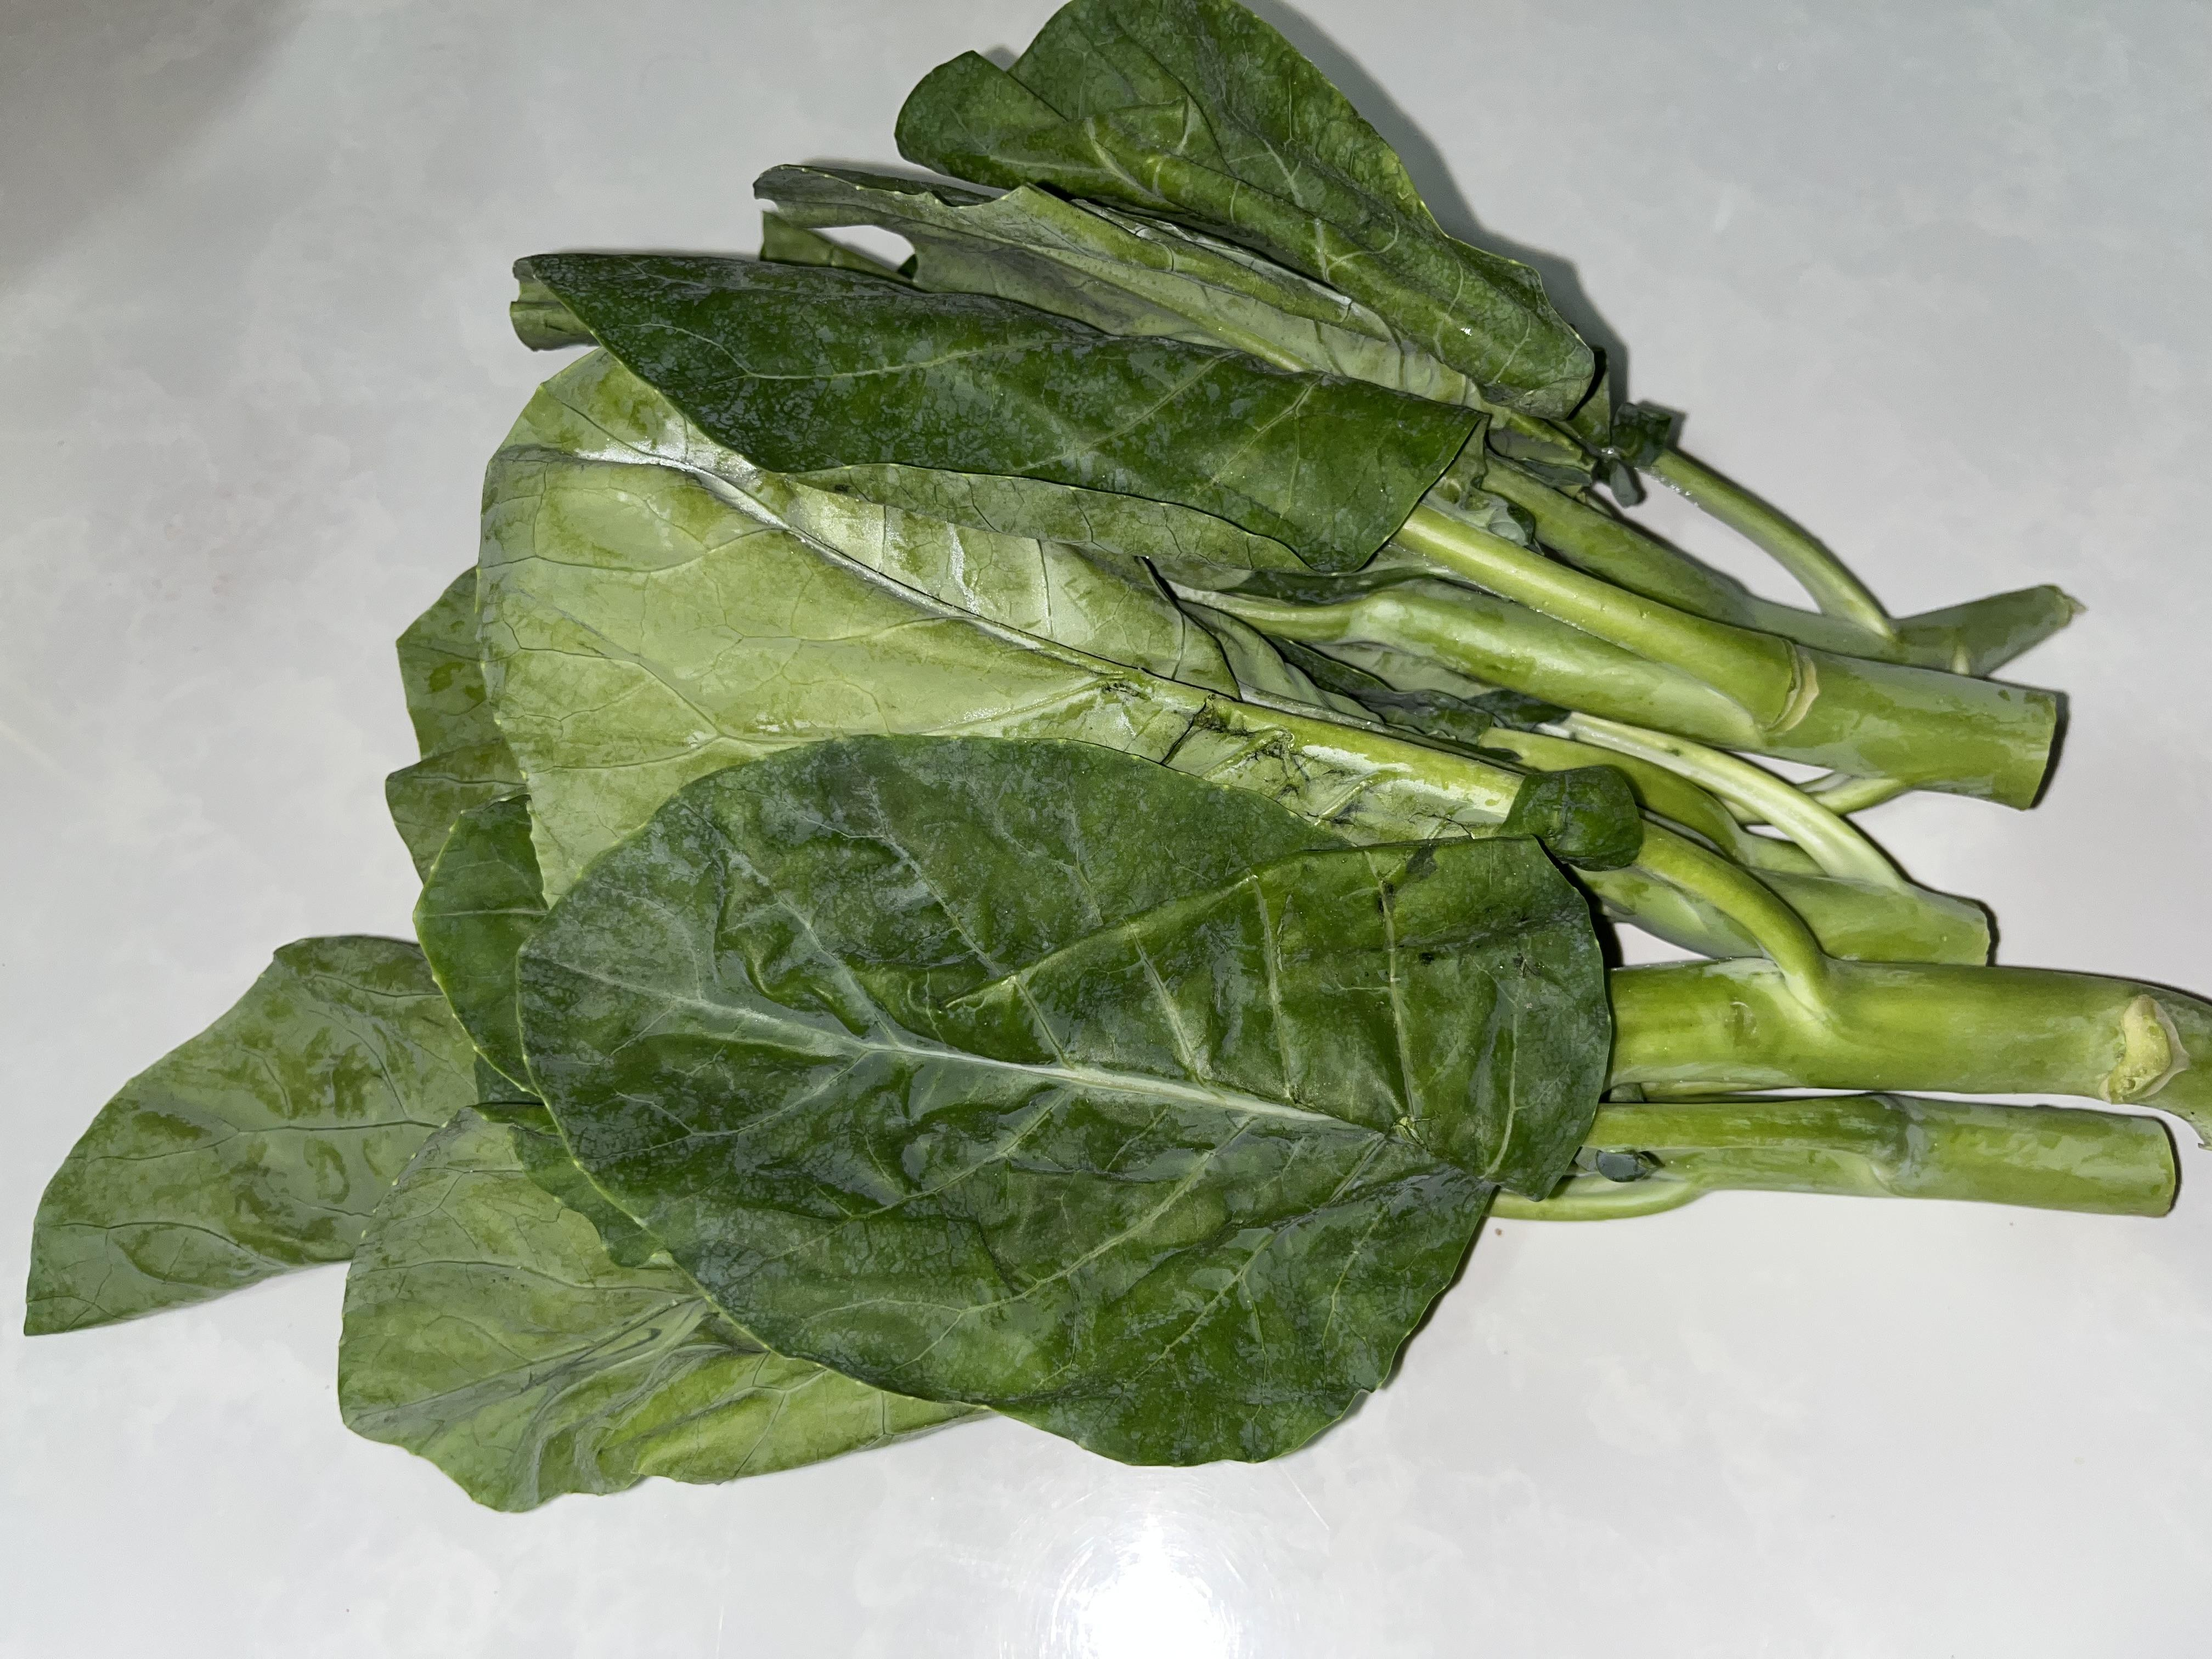Healthy-Pechay: (296, 87, 1998, 1459)
